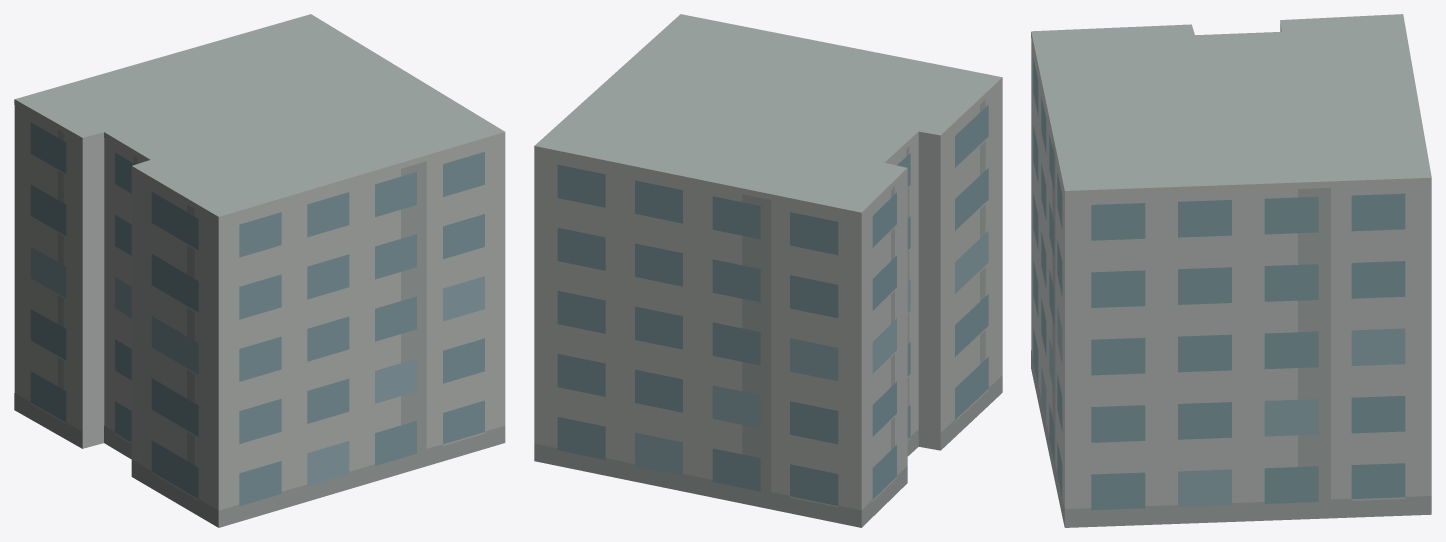
Rendered from survey-upis-32633719.glb.
3 views of the same model, side by side, from view 1: azimuth 30°, elevation 25°; view 2: azimuth 150°, elevation 25°; view 3: azimuth 270°, elevation 25° (orthographic). The views are drawn at different scales.
Visible parts, largest first — view 1: survey-upis-32633719.tmp; view 2: survey-upis-32633719.tmp; view 3: survey-upis-32633719.tmp.
Boxes of the visible parts, x1=… form: survey-upis-32633719.tmp: x1=14, y1=14, x2=505, y2=527; survey-upis-32633719.tmp: x1=534, y1=14, x2=1002, y2=527; survey-upis-32633719.tmp: x1=1031, y1=14, x2=1431, y2=527.
Bounding box in the file's own units: 14.48 × 12.85 × 13.86.
